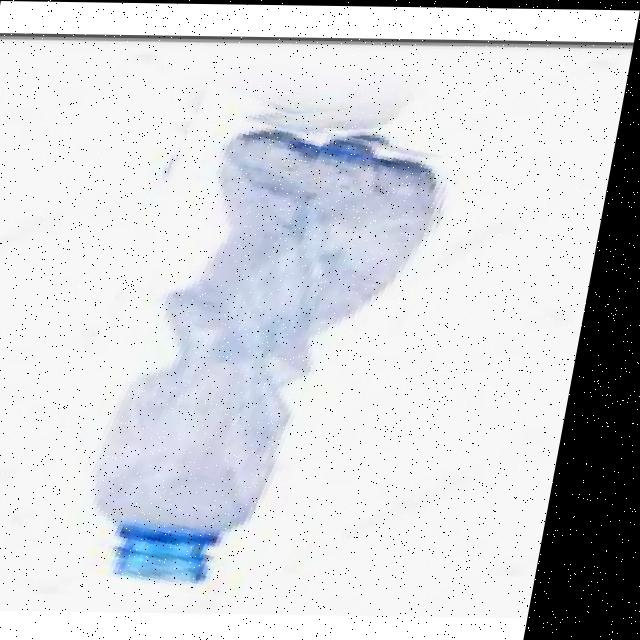plasticbottle: (43, 97, 468, 597)
